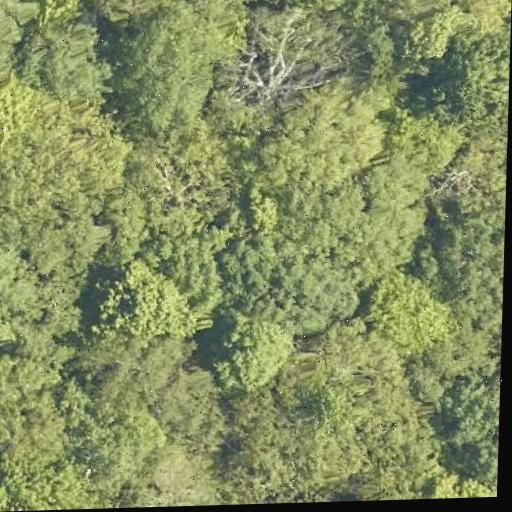tree-top: (0, 69, 120, 219), (105, 0, 239, 132), (254, 81, 392, 200), (220, 234, 360, 336), (291, 330, 420, 432), (123, 113, 236, 228), (323, 160, 437, 269), (4, 11, 110, 125), (229, 9, 338, 119), (0, 229, 92, 359), (430, 207, 505, 366), (98, 356, 221, 451), (89, 255, 204, 354), (241, 428, 367, 504), (347, 421, 450, 501), (434, 35, 511, 141), (0, 375, 71, 487), (361, 266, 447, 353), (83, 397, 169, 481), (209, 315, 297, 393), (0, 456, 115, 512), (142, 438, 228, 507), (434, 374, 500, 446), (436, 148, 507, 214), (216, 389, 285, 449), (406, 8, 472, 64), (397, 113, 459, 171), (440, 445, 498, 499), (395, 0, 512, 26), (74, 0, 192, 22), (0, 0, 32, 65), (36, 0, 77, 25), (283, 0, 373, 10)
